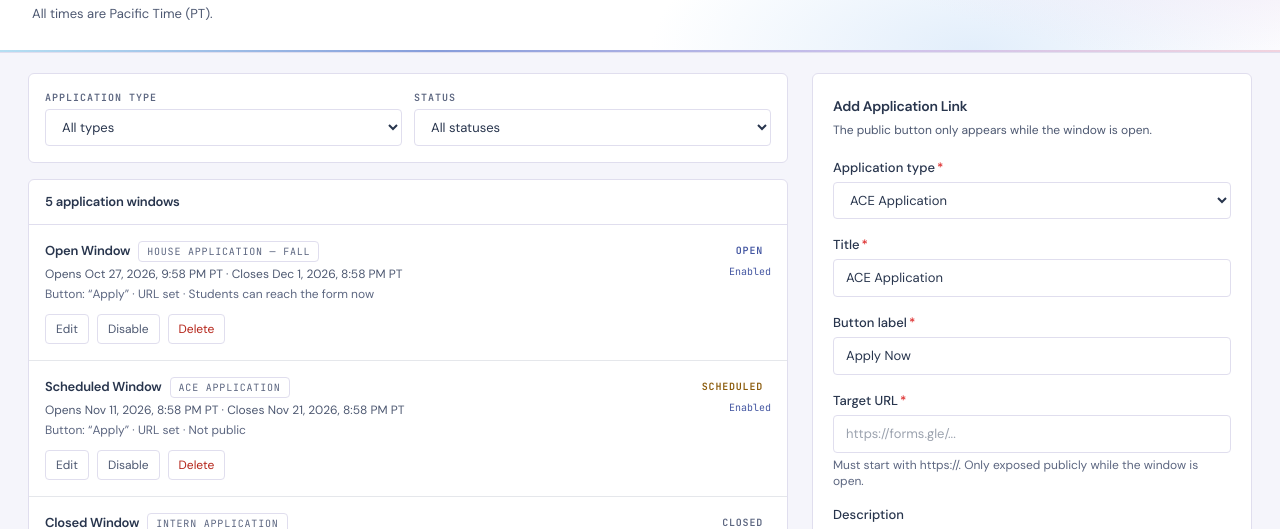
Scenario: public preview › reads the unsaved form, so a typed change is previewed before it is saved
Click the button "Edit" below "Nov 11, 2026, 8:58 PM PT".
click(67, 465)  # box [45,450,89,480]
(page scrolled)
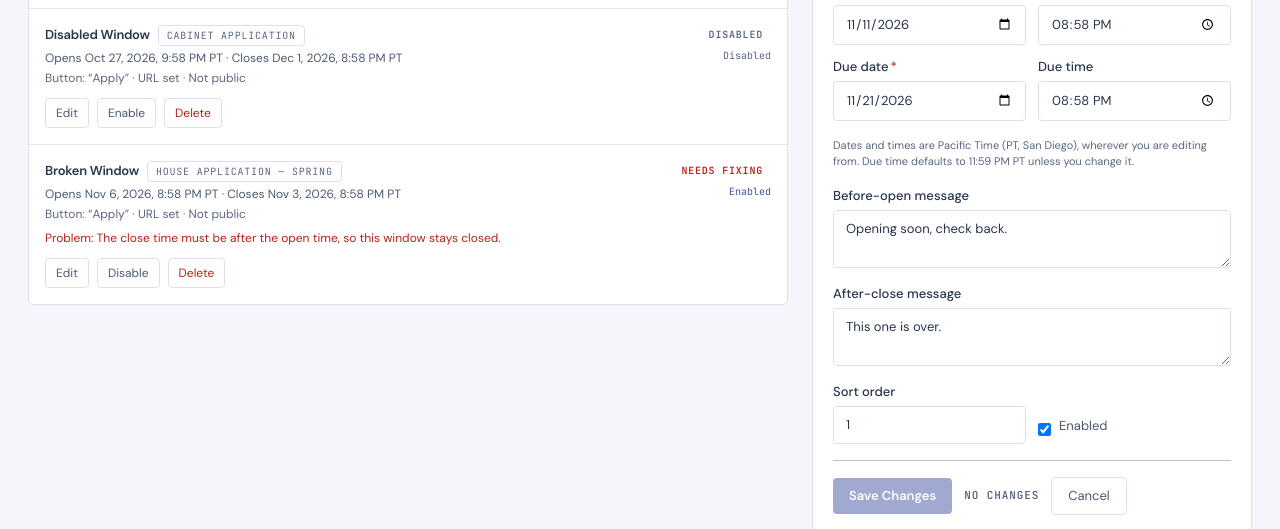
Replace the text in the text box labelled "Before-open message" with "Brand new copy" at (1032, 239), box [833,210,1231,268]
(page scrolled)
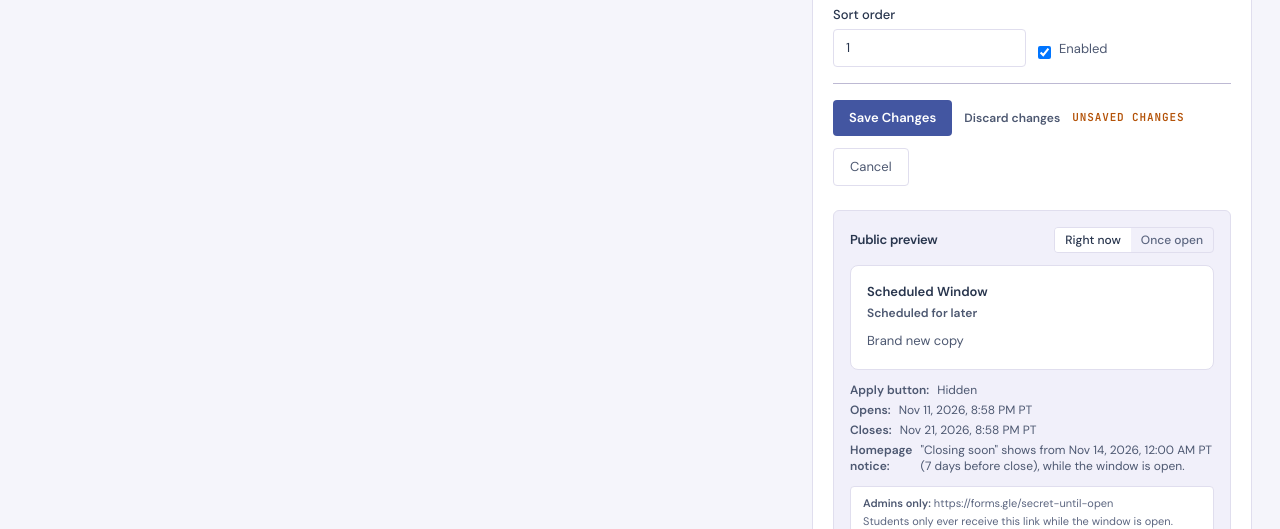
Result: the text "Brand new copy" is shown at [867,332,964,349]
